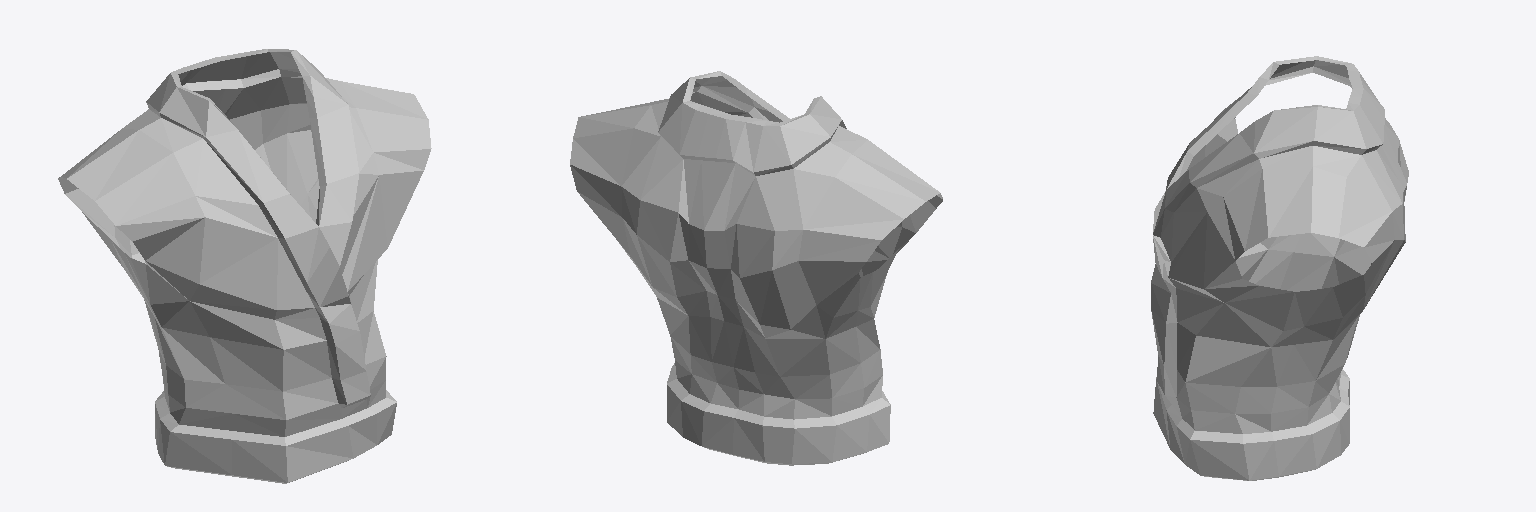
Rendered from vestWithBelt.obj.
3 views of the same model, side by side, from view 1: azimuth 30°, elevation 25°; view 2: azimuth 150°, elevation 25°; view 3: azimuth 270°, elevation 25° (orthographic).
Parts seen in each view (by area): view 1: polySurface5 GengiJedi__3_:foot_ex:Mesh1; view 2: polySurface5 GengiJedi__3_:foot_ex:Mesh1; view 3: polySurface5 GengiJedi__3_:foot_ex:Mesh1.
Boxes of the visible parts, <box> form: polySurface5 GengiJedi__3_:foot_ex:Mesh1: <box>58,49,431,483</box>; polySurface5 GengiJedi__3_:foot_ex:Mesh1: <box>570,71,942,465</box>; polySurface5 GengiJedi__3_:foot_ex:Mesh1: <box>1151,56,1408,480</box>.
Size of the model in its own units: 29.6 by 28.96 by 19.05.